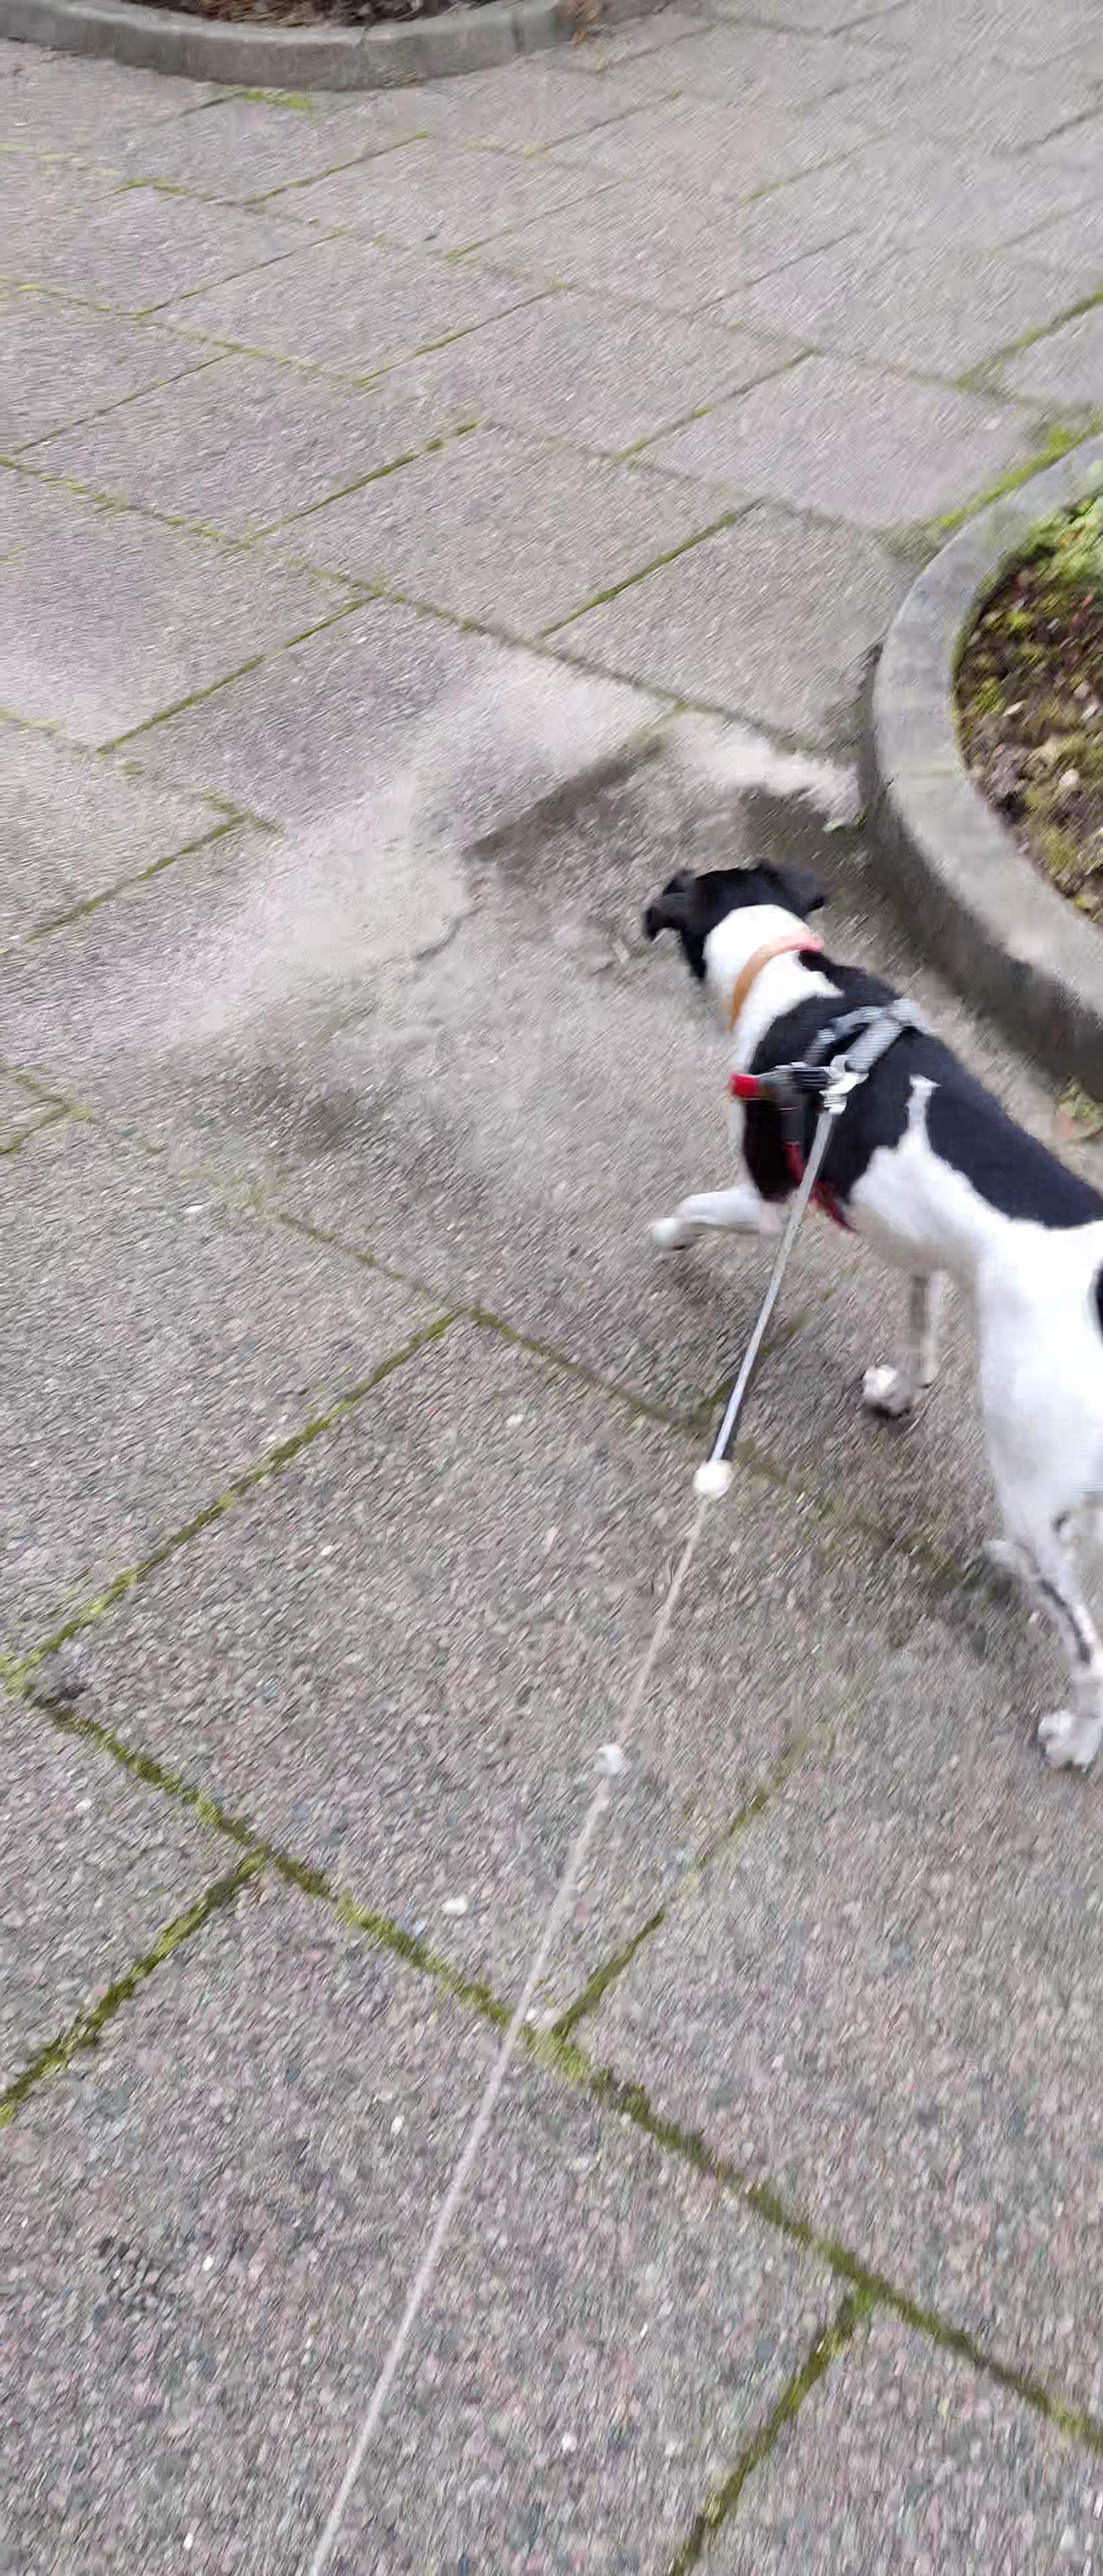Dog: (628, 846, 1103, 1773)
